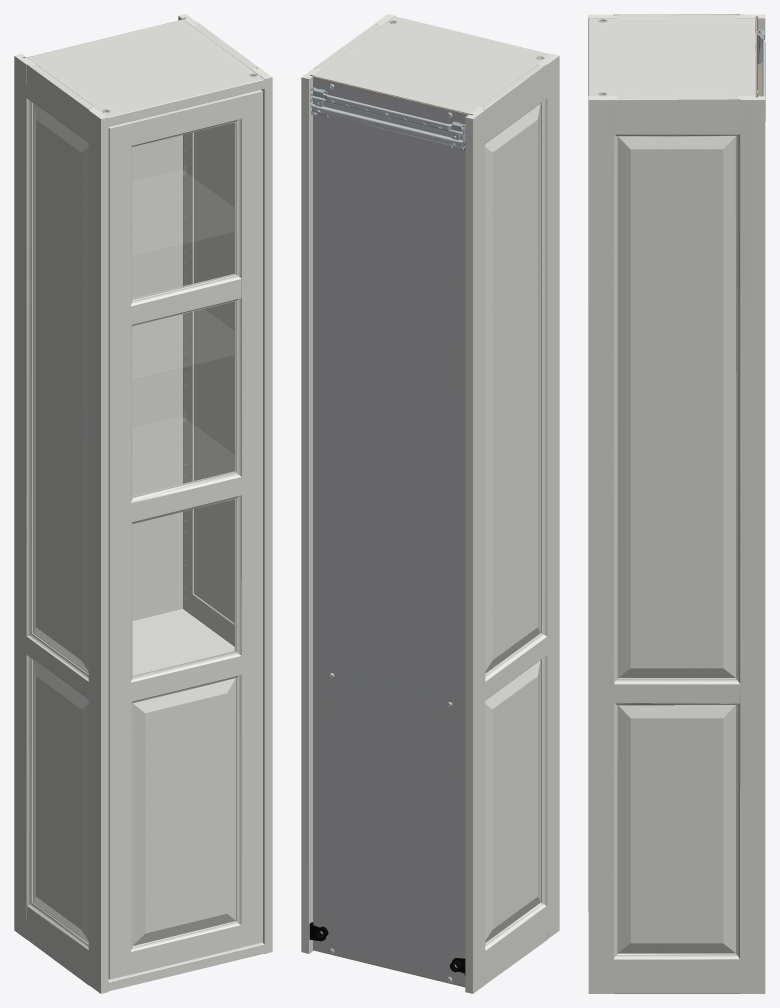
Rendered from tannforsen_szafka_wysoka_drzwi_90535111.glb.
3 views of the same model, side by side, from view 1: azimuth 30°, elevation 25°; view 2: azimuth 150°, elevation 25°; view 3: azimuth 270°, elevation 25° (orthographic). The views are drawn at different scales.
Parts seen in each view (by area): view 1: tannforsen_szafka_wysoka_drzwi_90535111; view 2: tannforsen_szafka_wysoka_drzwi_90535111; view 3: tannforsen_szafka_wysoka_drzwi_90535111.
Part boxes in pixels (x1,y1,x2,y2): tannforsen_szafka_wysoka_drzwi_90535111: [14, 14, 272, 993]; tannforsen_szafka_wysoka_drzwi_90535111: [301, 14, 559, 993]; tannforsen_szafka_wysoka_drzwi_90535111: [588, 14, 765, 993].
Size of the model in its own units: 0.4002 by 1.95 by 0.3501.
2 materials, 2 textured.
